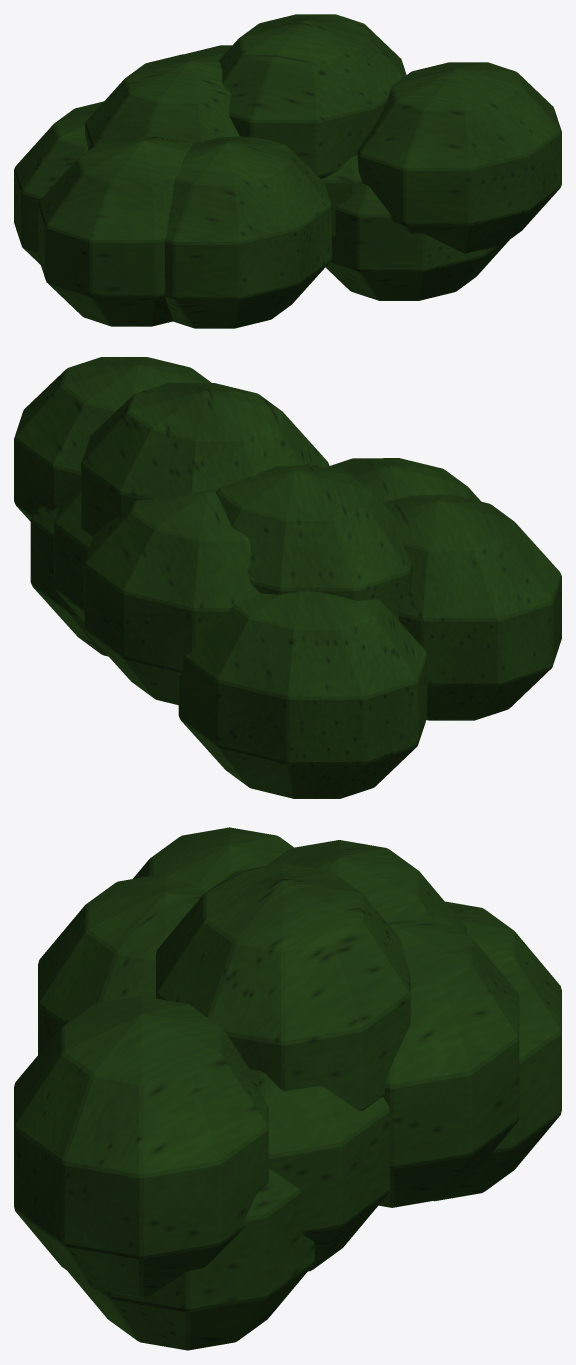
File: PROP-22E75A0AB4D0_lod1.glb
3 renders of one model, top to bottom at view 1: azimuth 30°, elevation 25°; view 2: azimuth 150°, elevation 25°; view 3: azimuth 270°, elevation 25°, orthographic. The views are drawn at different scales.
Parts seen in each view (by area): view 1: foliage.002; view 2: foliage.002; view 3: foliage.002.
Part boxes in pixels (bbox=[...]): foliage.002: bbox=[14, 14, 561, 328]; foliage.002: bbox=[14, 357, 561, 798]; foliage.002: bbox=[14, 827, 561, 1350].
Size of the model in its own units: 1.39 by 0.7509 by 0.9341.
Materials: 2 (2 with a texture image).
